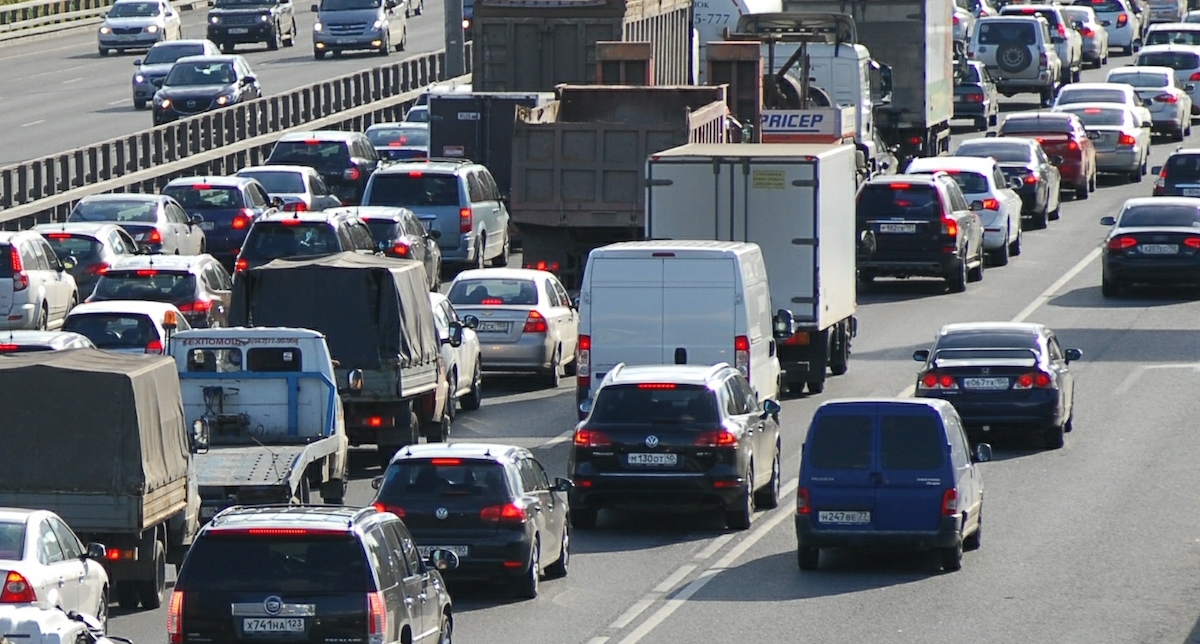Car: (645, 143, 876, 394), (590, 12, 901, 194), (0, 349, 209, 609), (228, 253, 461, 457), (510, 85, 731, 288), (165, 311, 364, 523), (167, 505, 459, 644), (576, 241, 796, 419), (569, 361, 781, 530), (795, 398, 994, 571), (784, 0, 968, 174), (370, 443, 571, 598), (913, 322, 1082, 449), (473, 0, 700, 92), (448, 267, 579, 387), (362, 162, 510, 267), (857, 174, 985, 292), (424, 92, 555, 202), (0, 508, 110, 631), (906, 156, 1023, 265), (86, 254, 232, 328), (162, 177, 283, 262), (323, 207, 441, 293), (955, 138, 1064, 229), (1101, 197, 1200, 297), (986, 113, 1100, 199), (29, 222, 154, 300), (234, 210, 383, 273), (968, 11, 1062, 108), (264, 132, 380, 206), (68, 194, 206, 255), (1052, 101, 1152, 182), (153, 54, 261, 126), (0, 231, 78, 330), (694, 0, 782, 85), (63, 301, 190, 354), (998, 5, 1083, 83), (1105, 66, 1192, 142), (429, 292, 482, 415), (132, 39, 222, 110), (0, 602, 134, 644), (312, 0, 407, 59), (231, 165, 343, 211), (97, 0, 183, 56), (207, 0, 297, 52), (1135, 44, 1200, 116), (1051, 82, 1152, 124), (1070, 0, 1143, 55), (951, 60, 999, 131), (1060, 5, 1110, 68), (0, 329, 96, 356), (365, 122, 428, 163), (1151, 148, 1200, 198), (1143, 23, 1200, 46), (416, 83, 472, 106), (952, 0, 976, 43), (1146, 0, 1188, 22), (1130, 0, 1150, 37), (989, 0, 1033, 13), (969, 0, 997, 19), (463, 0, 474, 41), (404, 105, 429, 123), (400, 0, 424, 16), (1181, 9, 1200, 24)
